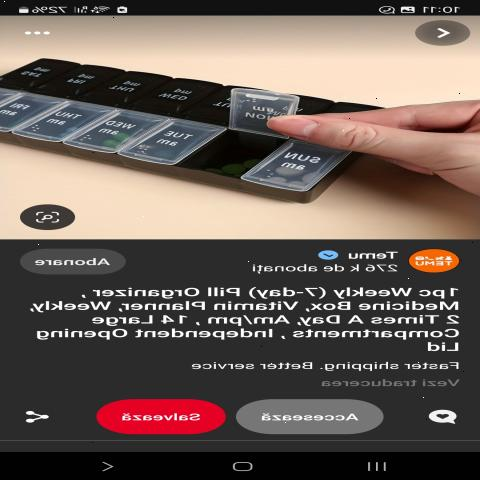PillBox: (0, 52, 434, 213)
